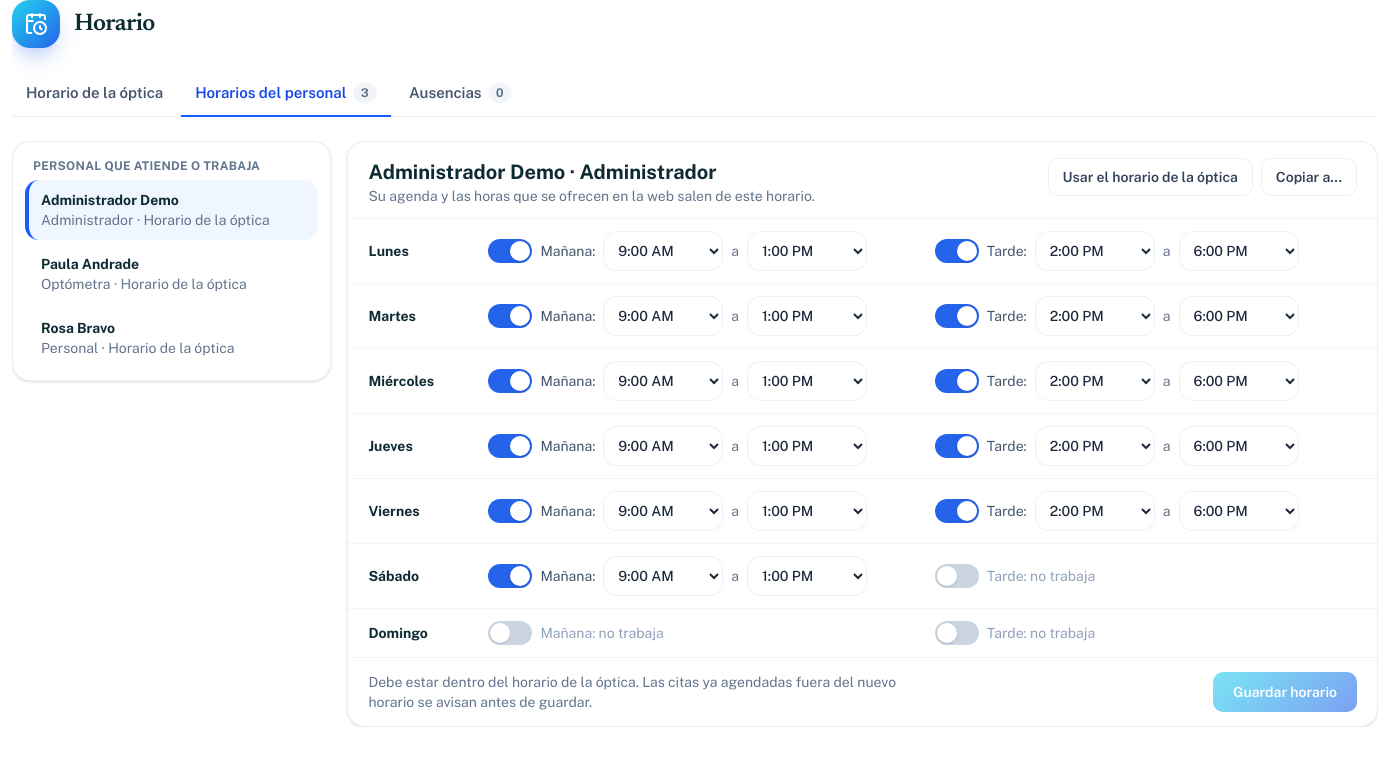
Scenario: Horario del administrador › Horarios del personal › elegir a otra persona muestra su semana; un turno se activa o se apaga (medio tiempo)
Click the text "Rosa Bravo" at point(78, 328), box [41,320,115,336]
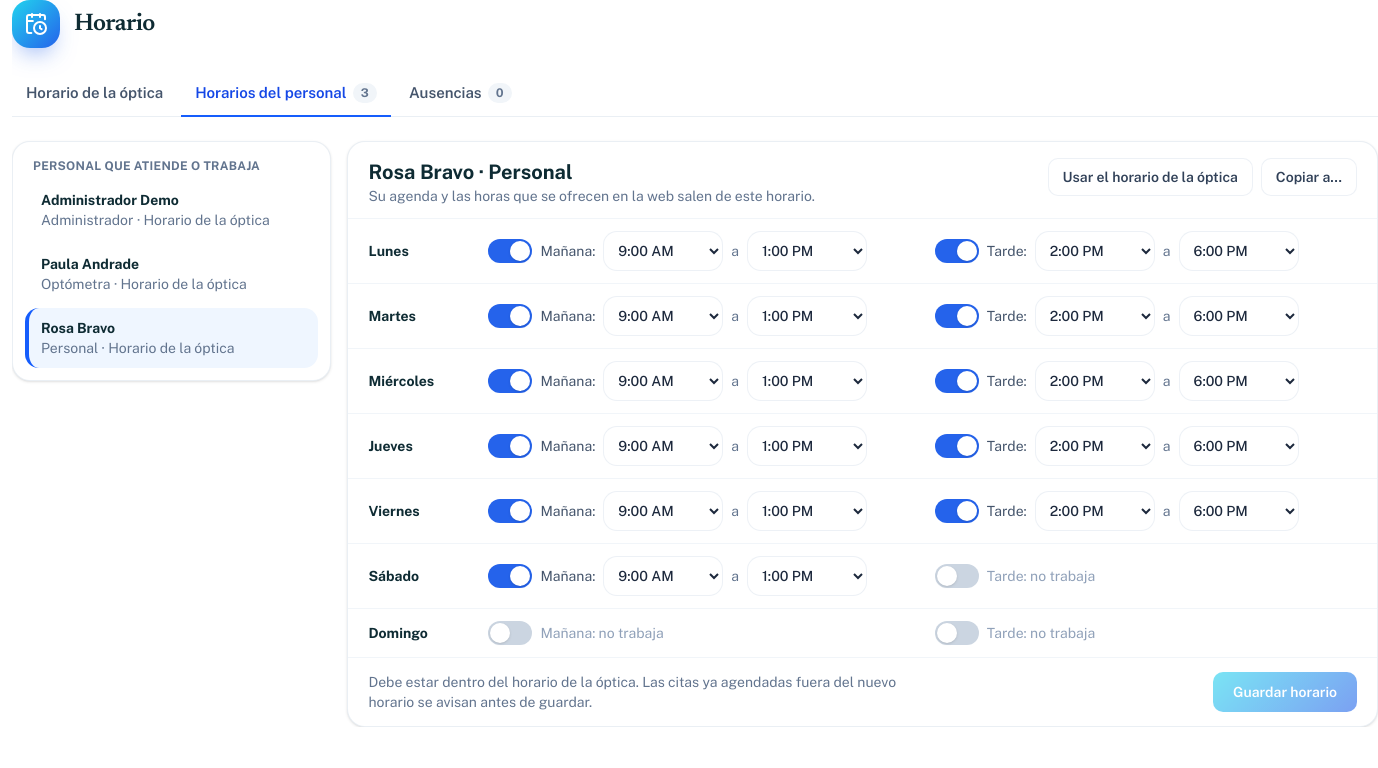
Expected: the element named "Horario de Rosa Bravo" is shown, [348,140,1377,726]
Click the switch named "Lunes: tarde" at point(957, 250), box [935,238,979,262]
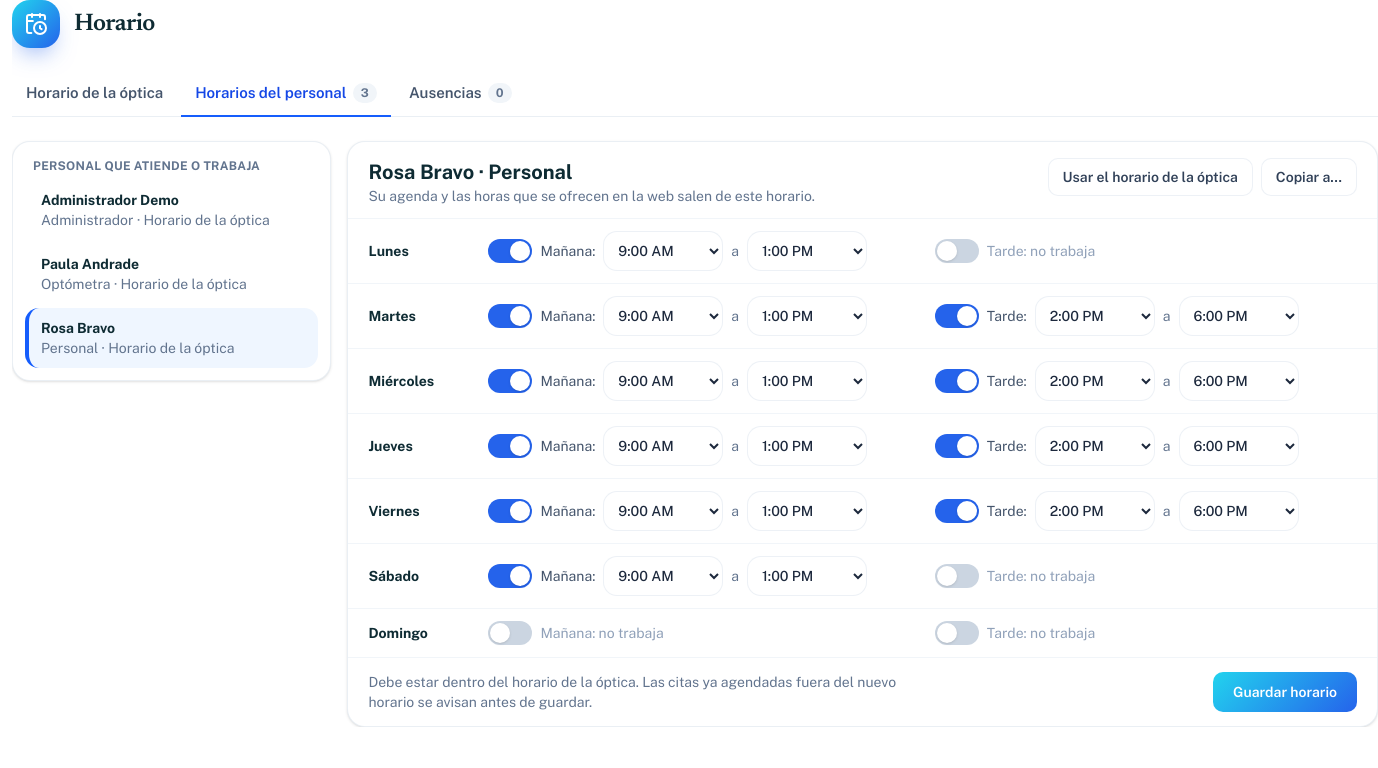
Expected: the text "Tarde: no trabaja" in the row of "Lunes" is shown, [987,240,1095,260]
Expected: the button "Guardar horario" is enabled, [1213,672,1357,712]
